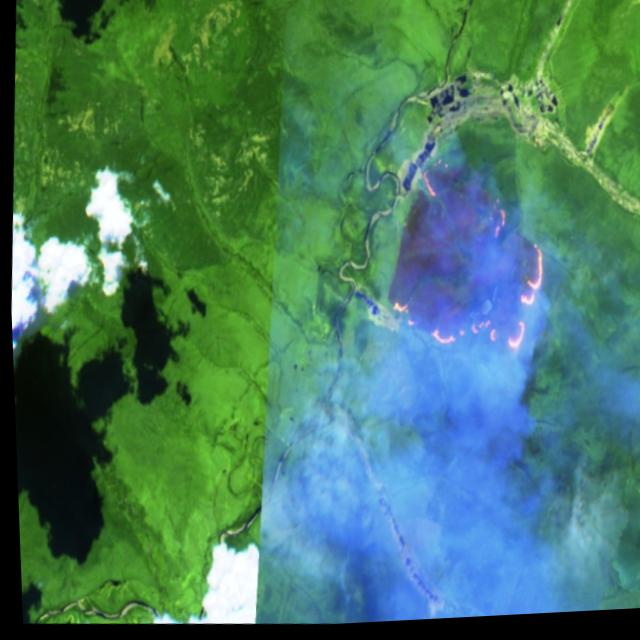fire: (372, 150, 550, 376)
